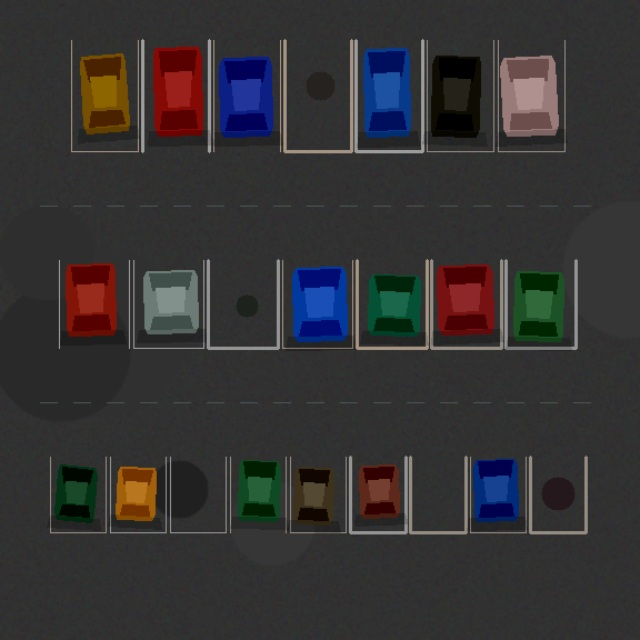space-empty: (284, 40, 351, 151), (208, 260, 278, 348), (170, 457, 226, 532), (410, 457, 466, 532), (530, 457, 586, 532)
space-occupied: (71, 40, 138, 151), (142, 40, 209, 151), (213, 40, 280, 151), (356, 40, 422, 151), (427, 40, 493, 151), (498, 40, 564, 151), (59, 260, 129, 348), (133, 260, 203, 348), (282, 260, 352, 348), (357, 260, 427, 348), (431, 260, 501, 348), (506, 260, 576, 348), (50, 457, 106, 532), (110, 457, 166, 532), (230, 457, 286, 532), (290, 457, 346, 532), (350, 457, 406, 532), (470, 457, 526, 532)
